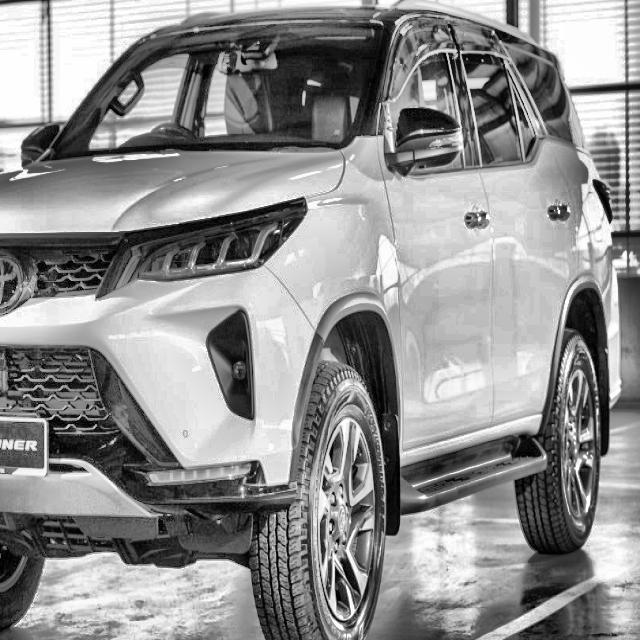light_vehicle: (0, 0, 623, 640)
